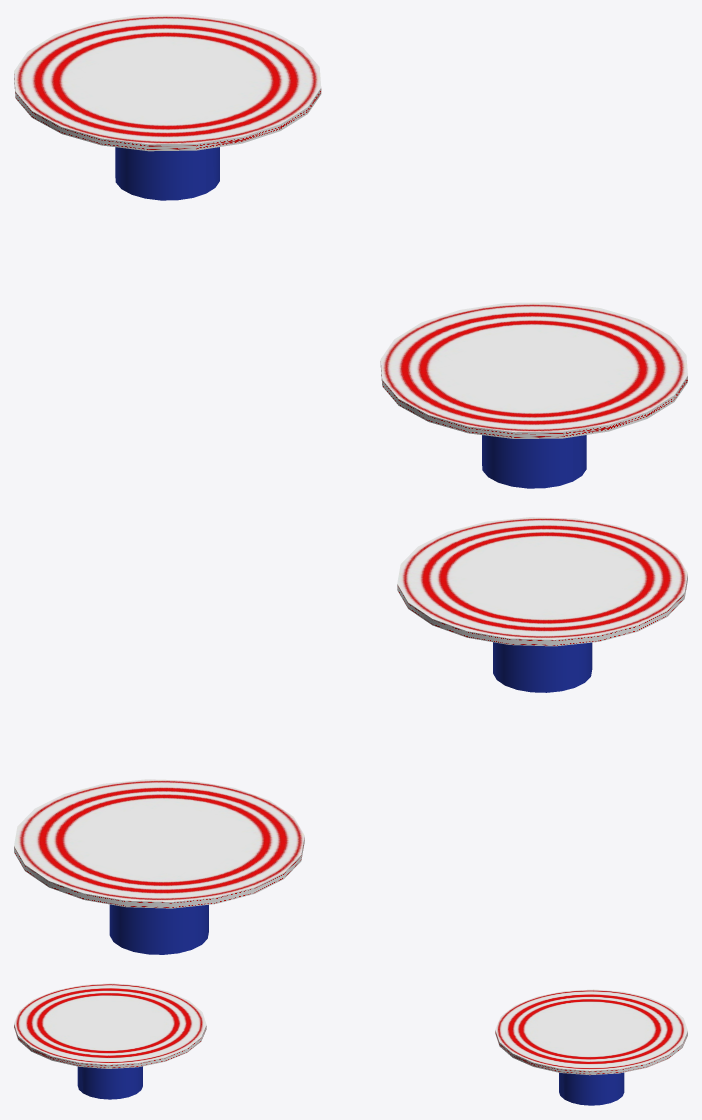
Rendered from basebump.obj.
The picture shows the model from 3 angles, top to bottom: view 1: azimuth 30°, elevation 25°; view 2: azimuth 150°, elevation 25°; view 3: azimuth 270°, elevation 25°; orthographic projection. The views are drawn at different scales.
Visible parts, largest first — view 1: PinballNuevo:BumperIzq_lambert9SG2; view 2: PinballNuevo:BumperIzq_lambert9SG2; view 3: PinballNuevo:BumperIzq_lambert9SG2.
Boxes of the visible parts, <box> form: PinballNuevo:BumperIzq_lambert9SG2: <box>14,14,687,488</box>; PinballNuevo:BumperIzq_lambert9SG2: <box>14,517,687,954</box>; PinballNuevo:BumperIzq_lambert9SG2: <box>14,983,687,1105</box>.
Size of the model in its own units: 1.26 by 0.4129 by 4.09.
2 materials, 2 textured.
